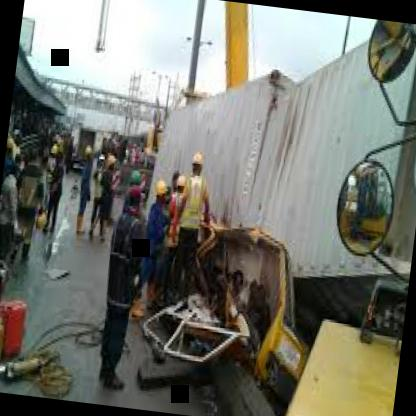accident: (128, 115, 360, 416)
